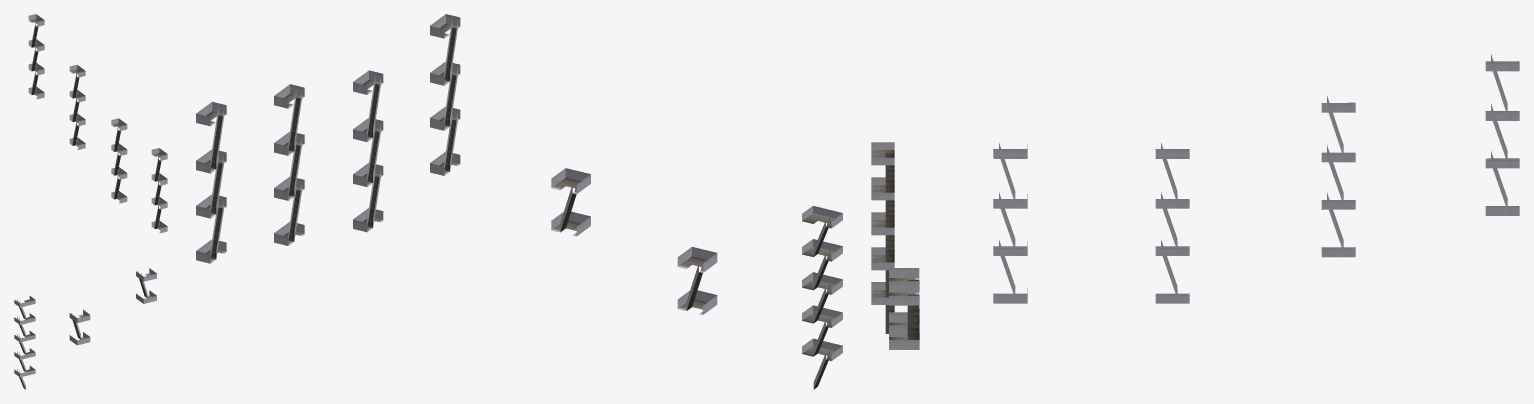
Rendered from firscape_sfw03.obj.
3 renders of one model, left to right at view 1: azimuth 30°, elevation 25°; view 2: azimuth 150°, elevation 25°; view 3: azimuth 270°, elevation 25°, orthographic. The views are drawn at different scales.
Visible parts, largest first — view 1: firscape_sfw03; view 2: firscape_sfw03; view 3: firscape_sfw03.
Boxes of the visible parts, x1=… form: firscape_sfw03: x1=14, y1=14, x2=167, y2=389; firscape_sfw03: x1=196, y1=14, x2=842, y2=389; firscape_sfw03: x1=871, y1=54, x2=1519, y2=349.
Bounding box in the file's own units: 45.91 × 53.8 × 72.3.
1 material, 1 textured.
